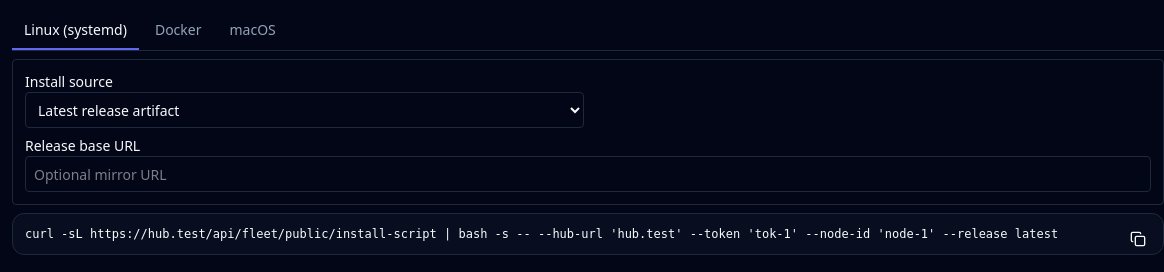
Scenario: InstallerSnippet › switches to Docker tab and shows docker run command
The width and height of the screenshot is (1164, 272).
Click the button "Docker": (178, 31) [143,12,214,50]
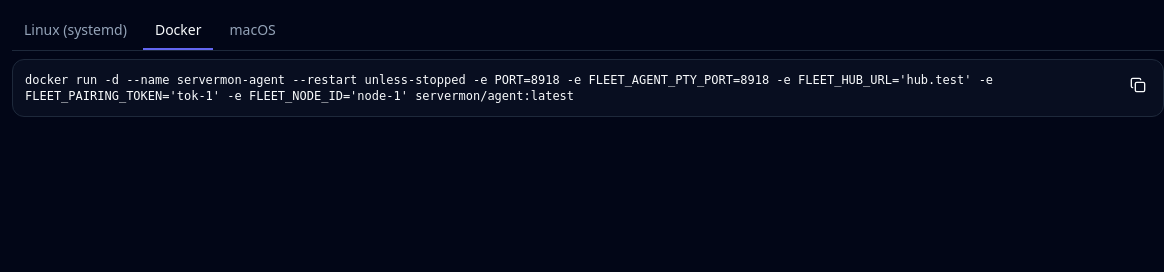
Expected: the text "docker run" is shown, [25,73,1000,103]
Expected: the text "FLEET_HUB_URL='hub.test'" is shown, [25,73,1000,103]
Expected: the text "FLEET_PAIRING_TOKEN='tok-1'" is shown, [25,73,1000,103]
